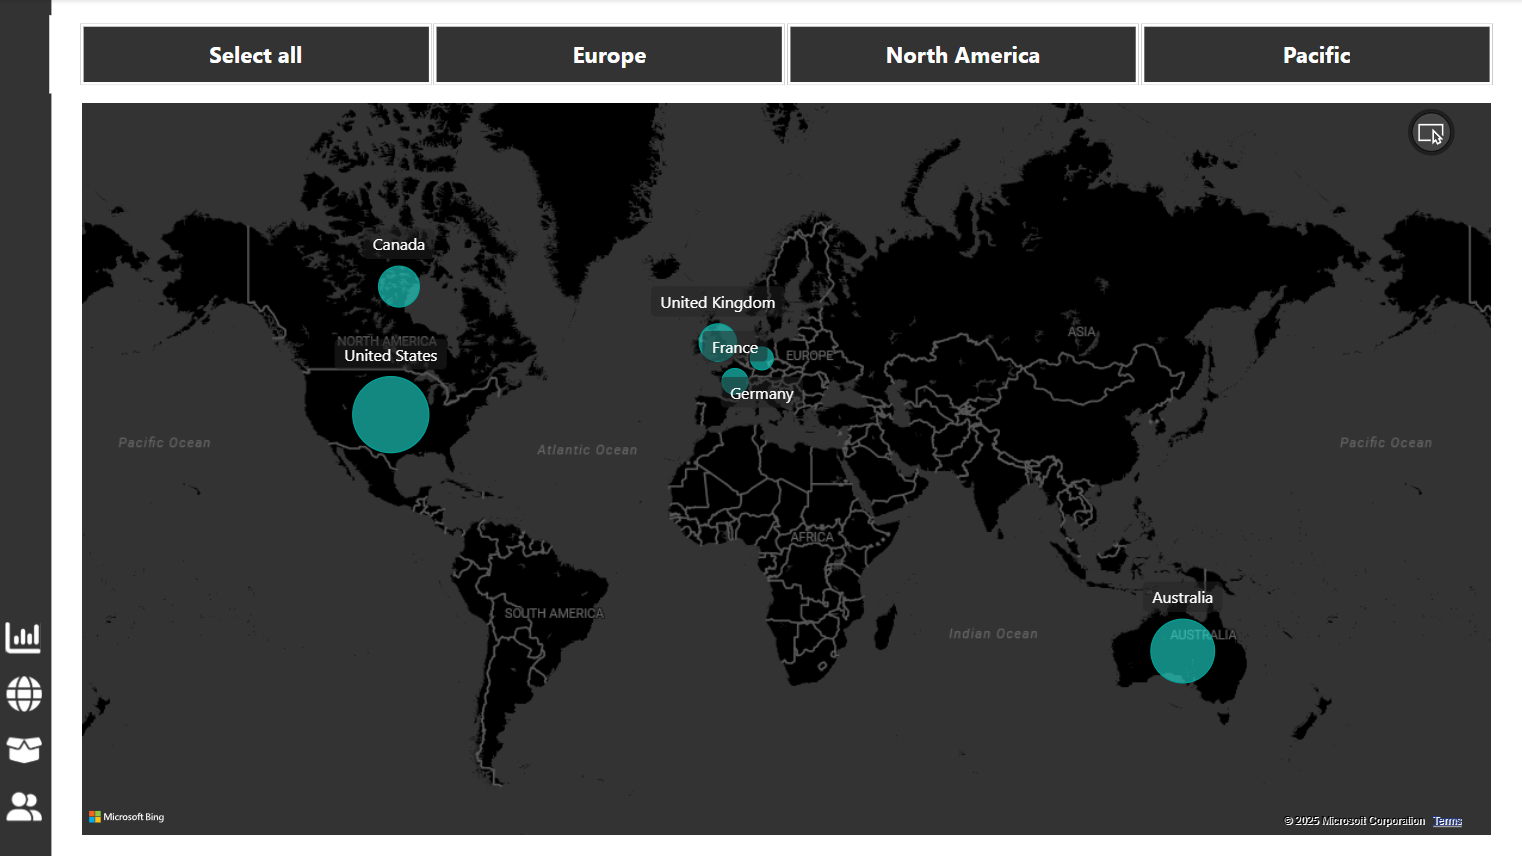

What the dashboard file says about the page in this screenshot:
{"tool":"powerbi","page":{"name":"Map","canvas":[1280,720],"ordinal":1},"visuals":[{"type":"shape","box":[0,0,45,720],"z":0},{"type":"actionButton","box":[2.5,516.7,45.6,37.8],"z":0,"group":"g1"},{"type":"actionButton","box":[3.3,563.4,45.6,37.8],"z":1000,"group":"g1"},{"type":"map","fields":{"Category":["Territory Lookup.Country"],"Size":["Measure Table.Total Orders"]},"box":[65.6,82.5,1191.3,622.8],"z":1000},{"type":"slicer","fields":{"Values":["Territory Lookup.Continent"]},"box":[43,13.6,1234.3,65.6],"z":2000},{"type":"actionButton","box":[3.3,611.1,45.6,37.8],"z":2000,"group":"g1"},{"type":"actionButton","box":[3.3,657.8,45.6,37.8],"z":3000,"group":"g1"},{"type":"group","id":"g1","title":"Navigation Buttons","box":[2.5,516.7,46.4,178.9],"z":3000}]}

Visuals, with their boxes on the page's 1280x720 design canvas (x1, y1, x2, y2). These are canvas units, not pixel positions in the 1522x856 screenshot, which may show the page scaled, cropped or inside an application window:
shape: <box>0,0,45,720</box>
actionButton: <box>2,517,48,554</box>
actionButton: <box>3,563,49,601</box>
map - Territory Lookup.Country x Measure Table.Total Orders: <box>66,82,1257,705</box>
slicer - Territory Lookup.Continent: <box>43,14,1277,79</box>
actionButton: <box>3,611,49,649</box>
actionButton: <box>3,658,49,696</box>
"Navigation Buttons" group: <box>2,517,49,696</box>
